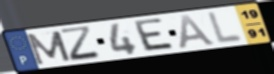4: (109, 22, 140, 56)
A: (178, 14, 219, 50)
E: (133, 17, 178, 53)
L: (206, 10, 245, 46)
M: (23, 29, 74, 66)
Z: (58, 24, 104, 63)
